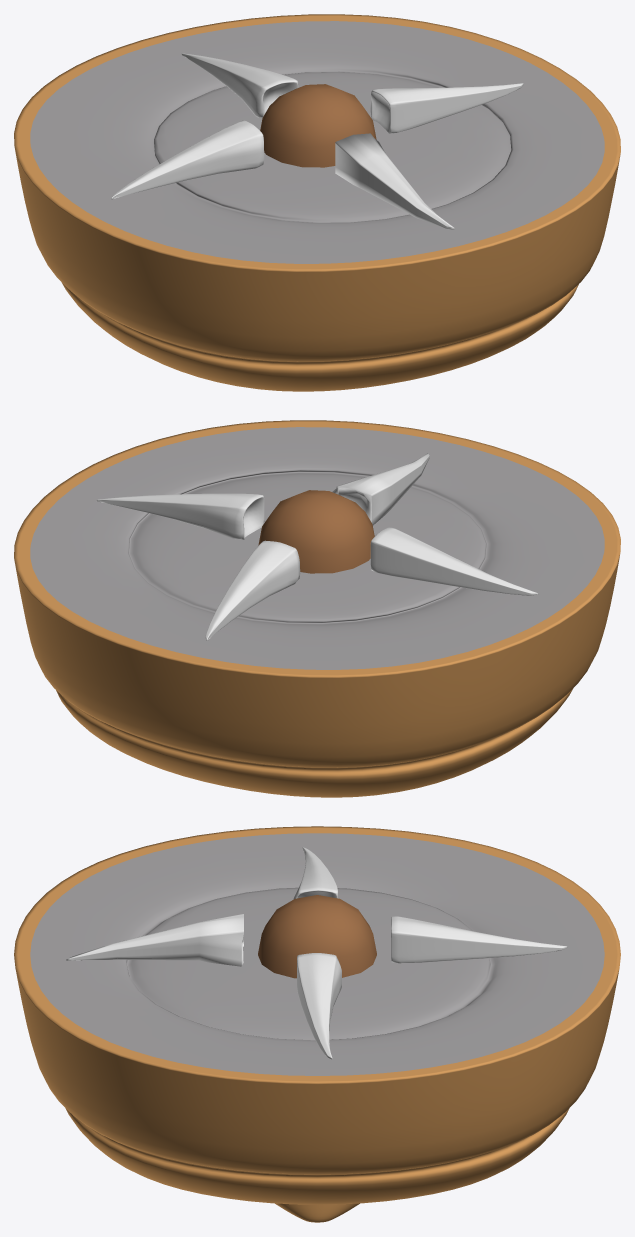
File: compass.glb
3 views of the same model, one above another, from view 1: azimuth 30°, elevation 25°; view 2: azimuth 150°, elevation 25°; view 3: azimuth 270°, elevation 25° (orthographic).
Visible parts, largest first — view 1: Cube.001, Cube, Cube.005, Cube.002, Cube.006, Cube.004; view 2: Cube.001, Cube, Cube.005, Cube.002, Cube.004, Cube.006; view 3: Cube.001, Cube, Cube.006, Cube.004, Cube.002, Cube.005.
Part boxes in pixels (x1,y1,x2,y2): Cube.001: [14, 14, 620, 391]; Cube: [260, 84, 376, 167]; Cube.005: [111, 120, 264, 199]; Cube.002: [370, 83, 523, 133]; Cube.006: [335, 133, 454, 229]; Cube.004: [181, 53, 298, 118]; Cube.001: [14, 420, 620, 797]; Cube: [258, 490, 374, 573]; Cube.005: [370, 527, 538, 595]; Cube.002: [96, 493, 264, 539]; Cube.004: [205, 540, 300, 640]; Cube.006: [332, 453, 429, 525]; Cube.001: [14, 826, 620, 1222]; Cube: [258, 895, 376, 978]; Cube.006: [66, 913, 243, 966]; Cube.004: [391, 916, 567, 963]; Cube.002: [297, 953, 341, 1059]; Cube.005: [293, 847, 337, 899].
Size of the model in its own units: 5.57 by 2.9 by 5.57.
